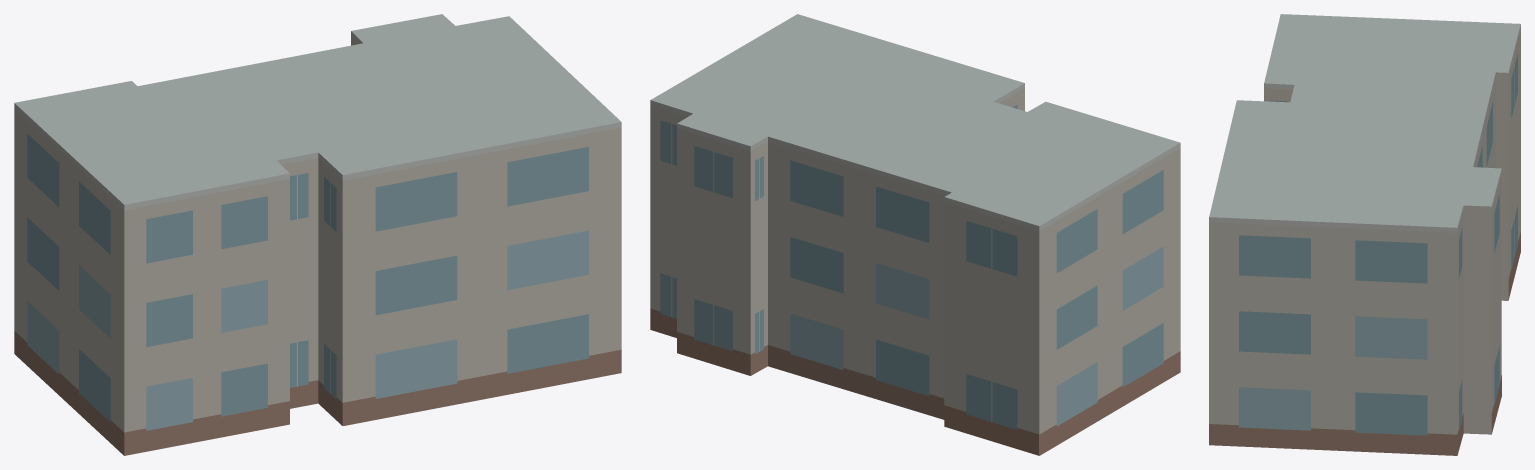
Rendered from survey-upis-32500585.glb.
The picture shows the model from 3 angles, left to right: view 1: azimuth 30°, elevation 25°; view 2: azimuth 150°, elevation 25°; view 3: azimuth 270°, elevation 25°; orthographic projection. The views are drawn at different scales.
Parts seen in each view (by area): view 1: survey-upis-32500585.tmp; view 2: survey-upis-32500585.tmp; view 3: survey-upis-32500585.tmp.
Boxes of the visible parts, x1,y1,x2,y2 form: survey-upis-32500585.tmp: (14,14,621,455); survey-upis-32500585.tmp: (650,14,1180,455); survey-upis-32500585.tmp: (1209,14,1520,455).
Size of the model in its own units: 22.8 by 11.34 by 14.05.
